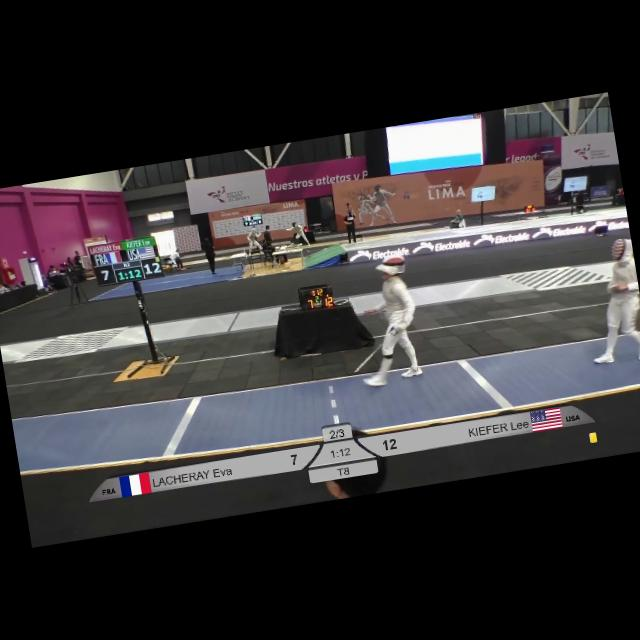blade: (343, 326, 406, 376)
